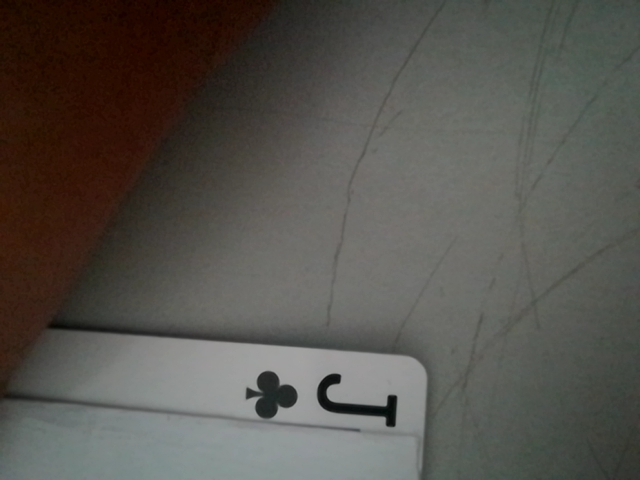mh j: (233, 358, 411, 435)
